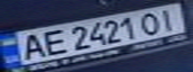1: (118, 14, 142, 39)
2: (66, 22, 90, 52), (103, 17, 124, 45)
4: (87, 19, 109, 47)
A: (15, 30, 51, 62)
E: (36, 27, 69, 57)
I: (151, 6, 184, 31)
O: (136, 10, 166, 36)
